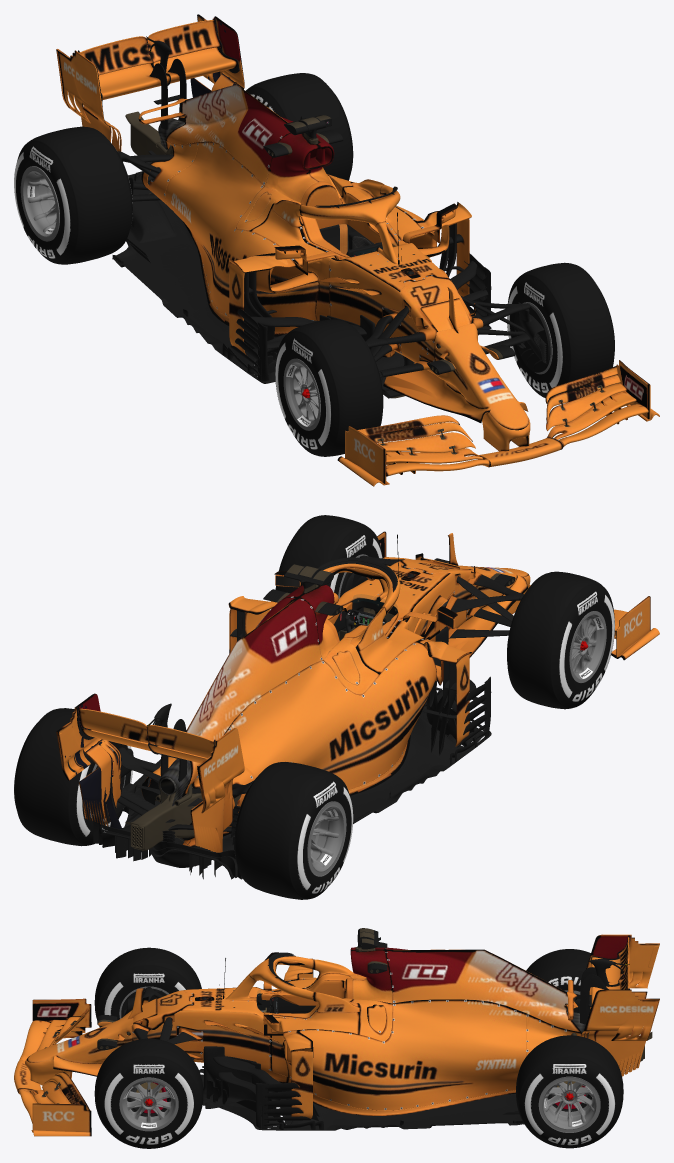
The model's file is McLaren.gltf.
3 renders of one model, top to bottom at view 1: azimuth 30°, elevation 25°; view 2: azimuth 150°, elevation 25°; view 3: azimuth 270°, elevation 25°, orthographic. The views are drawn at different scales.
Parts seen in each view (by area): view 1: F2021_BODY_F2021_PAINT_RS_0, CARBON_FLOOR_F2021_CARBON_0, TYRE_RR_F2021_WHEELS_0, TYRE_FR_F2021_WHEELS_0, TYRE_FL_F2021_WHEELS_0, TYRE_RL_F2021_WHEELS_0, F2021_PAINT_DRS_F2021_PAINT_RS_0, GEN_MAT_F2021_GENERAL_MAT_0, RIM_RR_F2021_WHEELS_0, RIM_FR_F2021_WHEELS_0, CARBON_HUB_FL_F2021_CARBON_0, CARBON_SUSP_ARM_FR_A_F2021_CARBON_0; view 2: F2021_BODY_F2021_PAINT_RS_0, CARBON_FLOOR_F2021_CARBON_0, TYRE_RR_F2021_WHEELS_0, TYRE_FR_F2021_WHEELS_0, TYRE_RL_F2021_WHEELS_0, GEN_MAT_F2021_GENERAL_MAT_0, TYRE_FL_F2021_WHEELS_0, F2021_PAINT_DRS_F2021_PAINT_RS_0, RIM_RR_F2021_WHEELS_0, RIM_FR_F2021_WHEELS_0, F2021_BODY_F2021_PAINT_RS_0.001, CARBON_SUSP_ARM_FR_A_F2021_CARBON_0 (+2 smaller); view 3: F2021_BODY_F2021_PAINT_RS_0, CARBON_FLOOR_F2021_CARBON_0, TYRE_FL_F2021_WHEELS_0, TYRE_RL_F2021_WHEELS_0, TYRE_FR_F2021_WHEELS_0, RIM_RL, RIM_FL_F2021_WHEELS_0, TYRE_RR_F2021_WHEELS_0, GEN_MAT_F2021_GENERAL_MAT_0, F2021_PAINT_DRS_F2021_PAINT_RS_0, F2021_BOLTS, CARBON_SUSP_ARM_FL_A_F2021_CARBON_0.
Part boxes in pixels (x1,y1,x2,y2): F2021_BODY_F2021_PAINT_RS_0: (56, 14, 659, 486); CARBON_FLOOR_F2021_CARBON_0: (78, 18, 515, 398); TYRE_RR_F2021_WHEELS_0: (14, 126, 132, 264); TYRE_FR_F2021_WHEELS_0: (275, 319, 383, 456); TYRE_FL_F2021_WHEELS_0: (507, 262, 614, 398); TYRE_RL_F2021_WHEELS_0: (246, 73, 353, 180); F2021_PAINT_DRS_F2021_PAINT_RS_0: (79, 20, 220, 75); GEN_MAT_F2021_GENERAL_MAT_0: (125, 111, 604, 455); RIM_RR_F2021_WHEELS_0: (20, 166, 59, 241); RIM_FR_F2021_WHEELS_0: (283, 358, 320, 430); CARBON_HUB_FL_F2021_CARBON_0: (513, 302, 550, 372); CARBON_SUSP_ARM_FR_A_F2021_CARBON_0: (365, 315, 425, 347); F2021_BODY_F2021_PAINT_RS_0: (56, 531, 659, 852); CARBON_FLOOR_F2021_CARBON_0: (77, 557, 515, 879); TYRE_RR_F2021_WHEELS_0: (234, 762, 353, 899); TYRE_FR_F2021_WHEELS_0: (507, 571, 614, 709); TYRE_RL_F2021_WHEELS_0: (14, 708, 132, 846); GEN_MAT_F2021_GENERAL_MAT_0: (125, 534, 513, 866); TYRE_FL_F2021_WHEELS_0: (275, 515, 382, 602); F2021_PAINT_DRS_F2021_PAINT_RS_0: (79, 708, 213, 757); RIM_RR_F2021_WHEELS_0: (307, 801, 346, 876); RIM_FR_F2021_WHEELS_0: (569, 611, 606, 682); F2021_BODY_F2021_PAINT_RS_0.001: (65, 704, 121, 829); CARBON_SUSP_ARM_FR_A_F2021_CARBON_0: (451, 575, 524, 612); F2021_BODY_F2021_PAINT_RS_0: (14, 934, 659, 1136); CARBON_FLOOR_F2021_CARBON_0: (97, 928, 630, 1130); TYRE_FL_F2021_WHEELS_0: (94, 1038, 203, 1148); TYRE_RL_F2021_WHEELS_0: (516, 1035, 623, 1148); TYRE_FR_F2021_WHEELS_0: (94, 947, 201, 1027); RIM_RL: (538, 1076, 600, 1132); RIM_FL_F2021_WHEELS_0: (119, 1077, 178, 1131); TYRE_RR_F2021_WHEELS_0: (526, 949, 616, 1034); GEN_MAT_F2021_GENERAL_MAT_0: (42, 928, 652, 1103); F2021_PAINT_DRS_F2021_PAINT_RS_0: (618, 937, 629, 989); F2021_BOLTS: (132, 947, 566, 1109); CARBON_SUSP_ARM_FL_A_F2021_CARBON_0: (134, 1028, 196, 1044).
Size of the model in its own units: 2.47 by 1.67 by 5.98.
7 materials, 6 textured.
